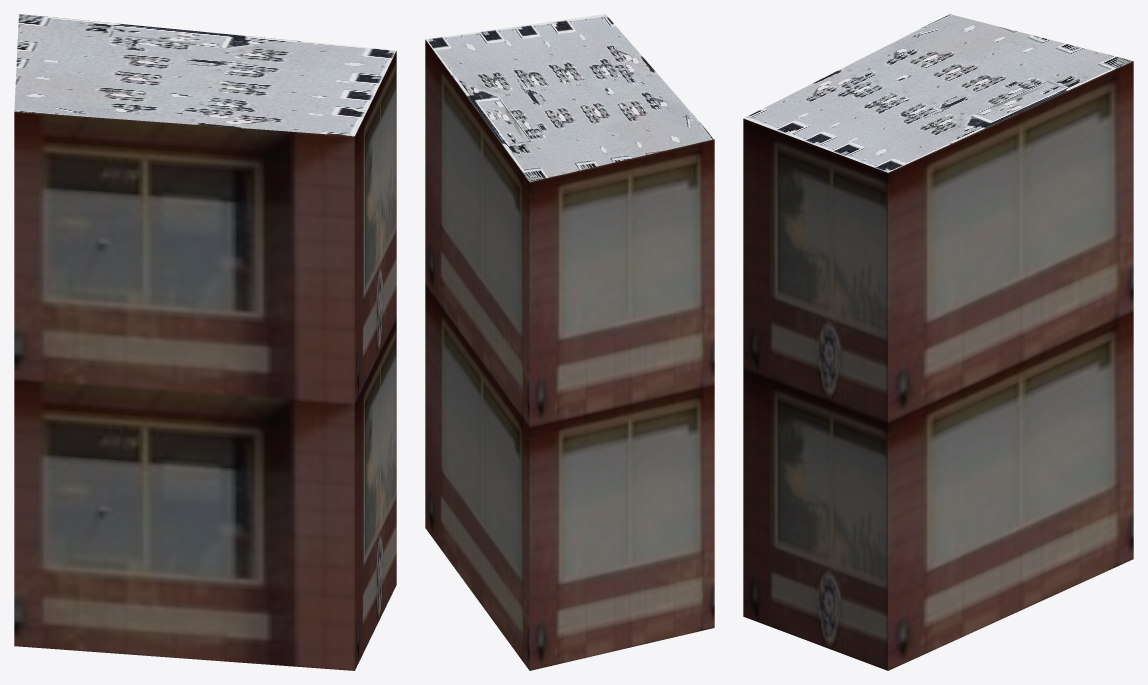
The model's file is ResTex__857.fbx.
3 renders of one model, left to right at view 1: azimuth 30°, elevation 25°; view 2: azimuth 150°, elevation 25°; view 3: azimuth 270°, elevation 25°, orthographic. The views are drawn at different scales.
Parts seen in each view (by area): view 1: CityEngineMaterial_13_m, CityEngineMaterial_2_m; view 2: CityEngineMaterial_13_m, CityEngineMaterial_2_m; view 3: CityEngineMaterial_13_m, CityEngineMaterial_2_m.
Part boxes in pixels (<box>): CityEngineMaterial_13_m: <box>14,51,396,670</box>; CityEngineMaterial_2_m: <box>14,14,396,136</box>; CityEngineMaterial_13_m: <box>425,39,714,670</box>; CityEngineMaterial_2_m: <box>425,14,714,181</box>; CityEngineMaterial_13_m: <box>743,61,1133,670</box>; CityEngineMaterial_2_m: <box>744,14,1132,172</box>.
Size of the model in its own units: 4.1 by 6 by 4.26.
2 materials, 2 textured.
